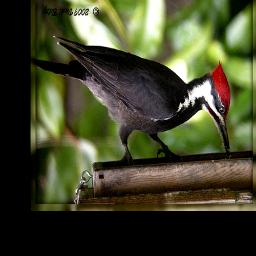Woodpecker: (31, 34, 231, 163)
